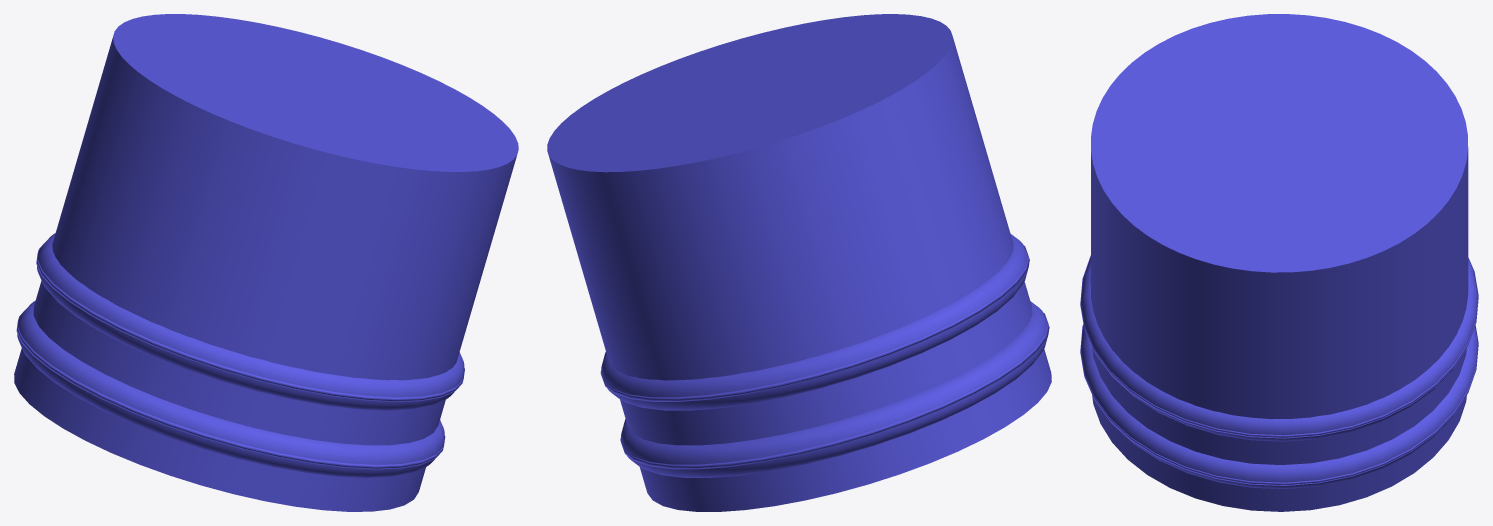
File: bombilla158.obj
3 renders of one model, left to right at view 1: azimuth 30°, elevation 25°; view 2: azimuth 150°, elevation 25°; view 3: azimuth 270°, elevation 25°, orthographic. The views are drawn at different scales.
Parts seen in each view (by area): view 1: Cylinder001, Cylinder003, Cylinder004, Cylinder006, Cylinder002; view 2: Cylinder001, Cylinder003, Cylinder004, Cylinder006, Cylinder002; view 3: Cylinder001, Cylinder004, Cylinder002, Cylinder003, Cylinder006.
Part boxes in pixels (x1=…): Cylinder001: x1=52, y1=14, x2=518, y2=380; Cylinder003: x1=33, y1=281, x2=445, y2=445; Cylinder004: x1=16, y1=300, x2=445, y2=477; Cylinder006: x1=14, y1=348, x2=425, y2=511; Cylinder002: x1=36, y1=233, x2=464, y2=410; Cylinder001: x1=547, y1=14, x2=1013, y2=380; Cylinder003: x1=620, y1=282, x2=1032, y2=445; Cylinder004: x1=620, y1=301, x2=1049, y2=477; Cylinder006: x1=639, y1=349, x2=1051, y2=511; Cylinder002: x1=600, y1=234, x2=1029, y2=410; Cylinder001: x1=1090, y1=14, x2=1468, y2=419; Cylinder004: x1=1080, y1=324, x2=1478, y2=488; Cylinder002: x1=1080, y1=255, x2=1478, y2=441; Cylinder003: x1=1092, y1=347, x2=1466, y2=464; Cylinder006: x1=1092, y1=395, x2=1466, y2=511.
Size of the model in its own units: 83.64 by 78 by 72.21.
